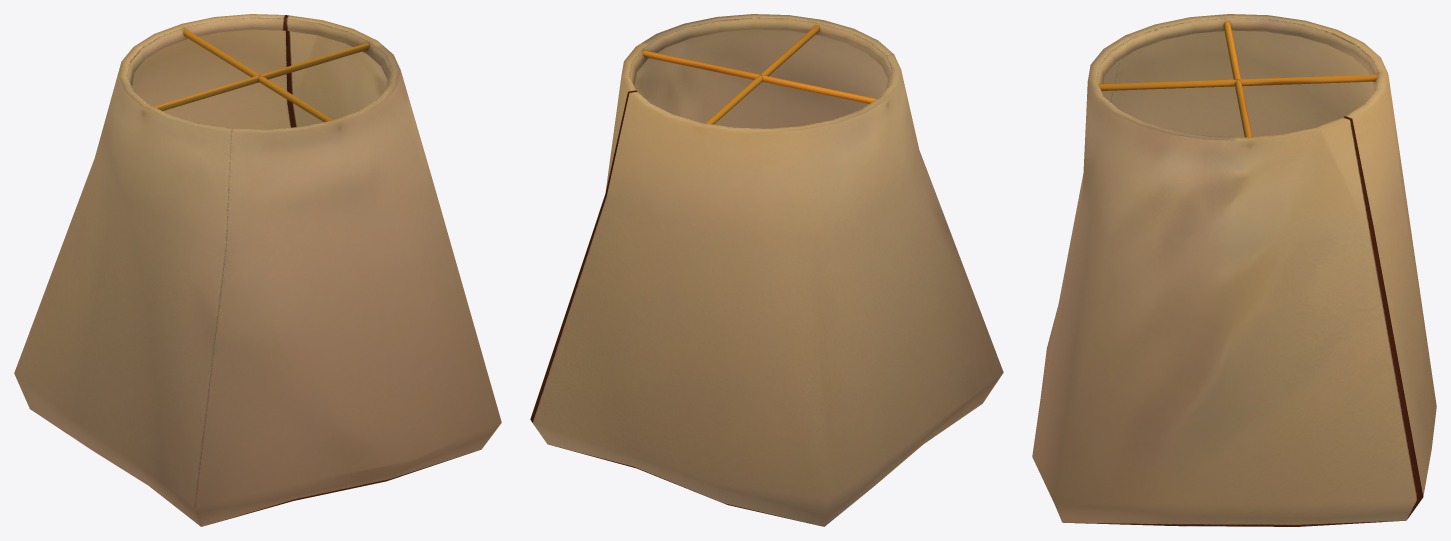
Rendered from 2denlong.glb.
3 views of the same model, side by side, from view 1: azimuth 30°, elevation 25°; view 2: azimuth 150°, elevation 25°; view 3: azimuth 270°, elevation 25° (orthographic). The views are drawn at different scales.
Parts seen in each view (by area): view 1: Latern 2.001, Cylinder.012; view 2: Latern 2.001, Cylinder.012; view 3: Latern 2.001, Cylinder.012.
Part boxes in pixels (<box>): Latern 2.001: <box>14,14,501,526</box>; Cylinder.012: <box>154,29,369,121</box>; Latern 2.001: <box>530,14,1003,526</box>; Cylinder.012: <box>642,25,876,124</box>; Latern 2.001: <box>1032,14,1436,526</box>; Cylinder.012: <box>1098,21,1377,137</box>.
Bounding box in the file's own units: 2.25 × 2.51 × 2.36.
Materials: 1 (1 with a texture image).
